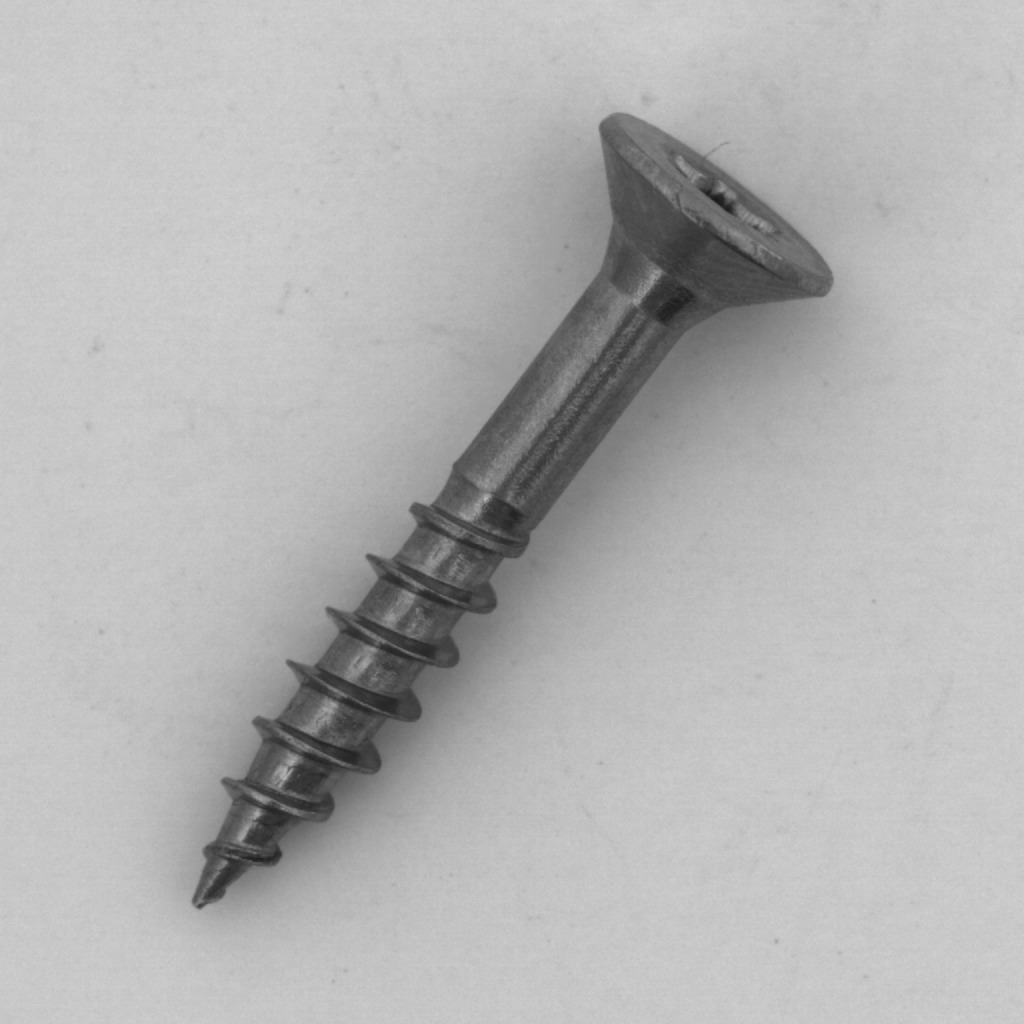good: (179, 100, 852, 930)
